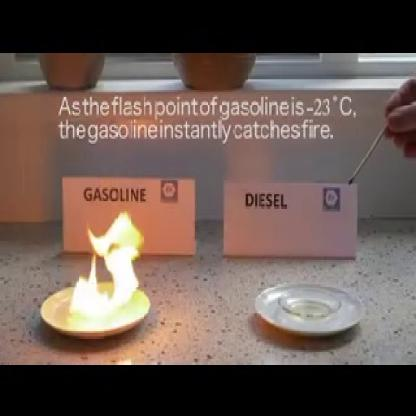fire: (72, 210, 150, 324)
